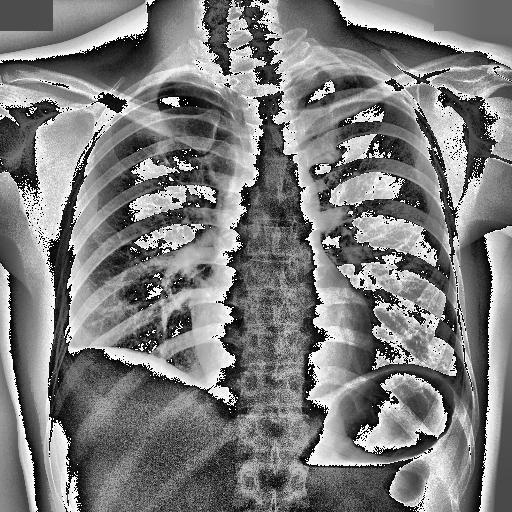10- Pleural effusion: (51, 326, 208, 436), (53, 340, 225, 416), (55, 329, 92, 391)
11- Pleural thickening: (55, 329, 92, 391)
7- Lung Opacity: (51, 326, 208, 436)
